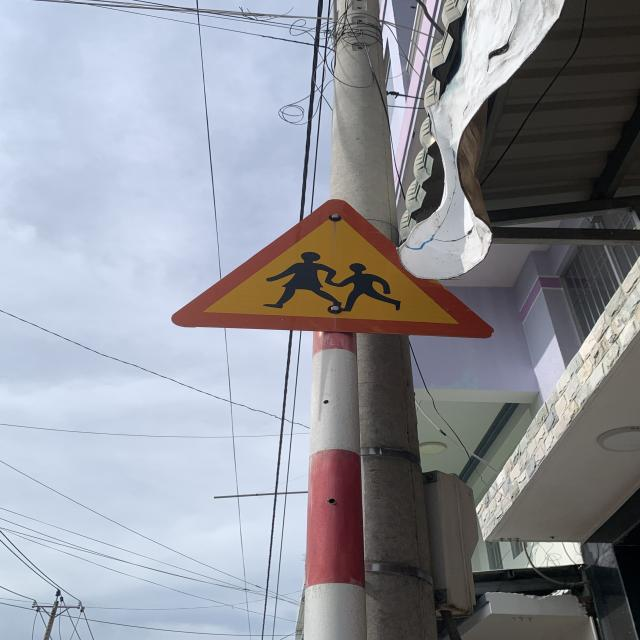Vong_Xuyen: (170, 197, 494, 337)
